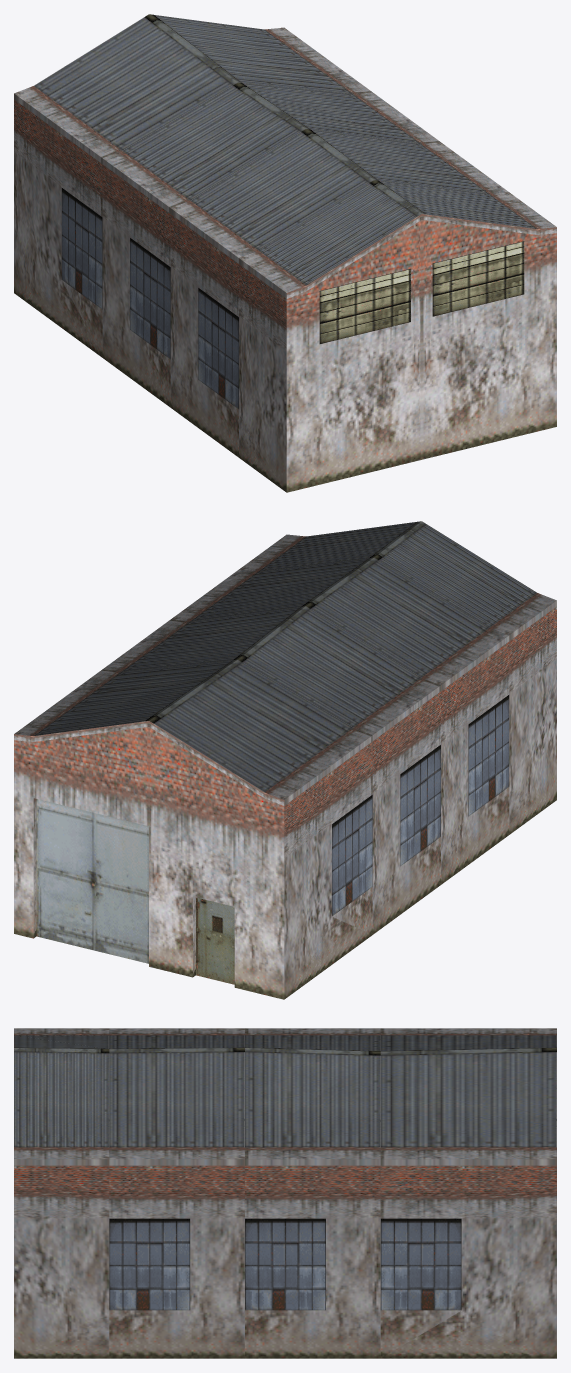
File: psxprop_-_old_warehouse.obj
3 views of the same model, one above another, from view 1: azimuth 30°, elevation 25°; view 2: azimuth 150°, elevation 25°; view 3: azimuth 270°, elevation 25° (orthographic).
Visible parts, largest first — view 1: obj1; view 2: obj1; view 3: obj1.
Boxes of the visible parts, box(x1,y1,x2,y2) form: obj1: box(14, 14, 556, 492); obj1: box(14, 521, 556, 999); obj1: box(14, 1028, 556, 1358).
Size of the model in its own units: 8 by 6.96 by 13.99.
1 material, 1 textured.
